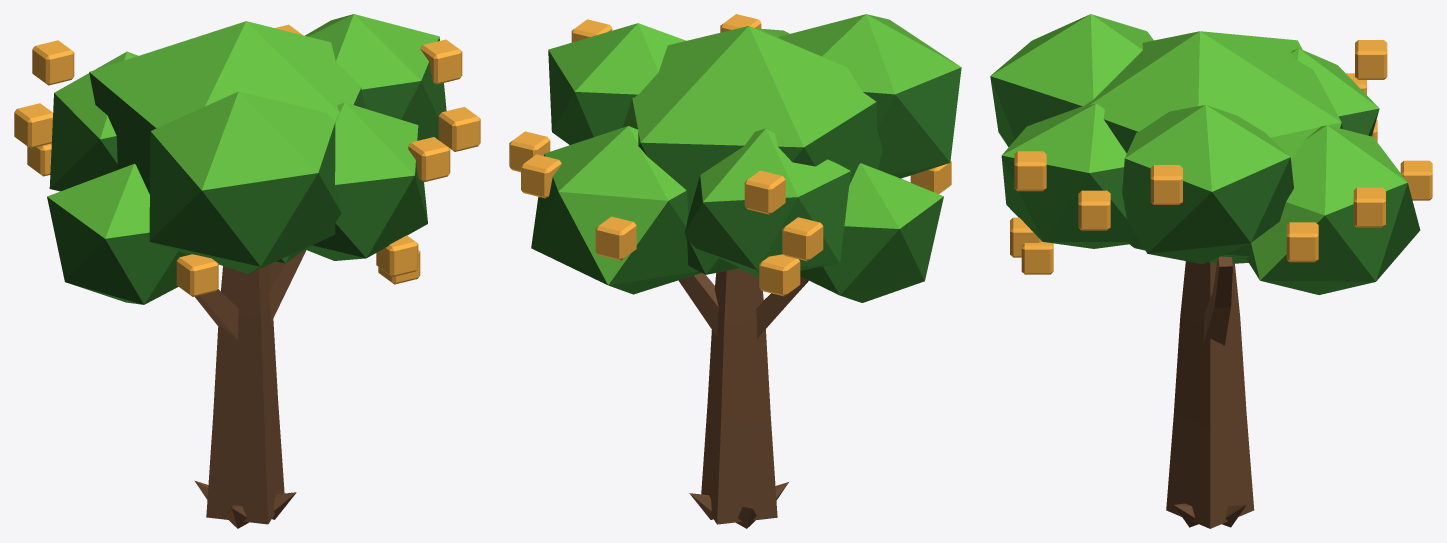
File: MangoTree.fbx
3 views of the same model, side by side, from view 1: azimuth 30°, elevation 25°; view 2: azimuth 150°, elevation 25°; view 3: azimuth 270°, elevation 25° (orthographic). The views are drawn at different scales.
Parts seen in each view (by area): view 1: MangoTree; view 2: MangoTree; view 3: MangoTree.
Boxes of the visible parts, <box> form: MangoTree: <box>14,14,480,528</box>; MangoTree: <box>509,14,961,528</box>; MangoTree: <box>990,14,1432,528</box>.
Bounding box in the file's own units: 11.13 × 13.99 × 11.56.
1 material, 1 textured.
